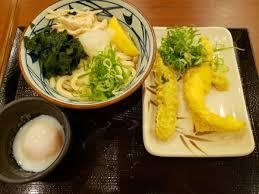bukkake: (21, 1, 153, 105)
pumpkin: (185, 67, 245, 135)
